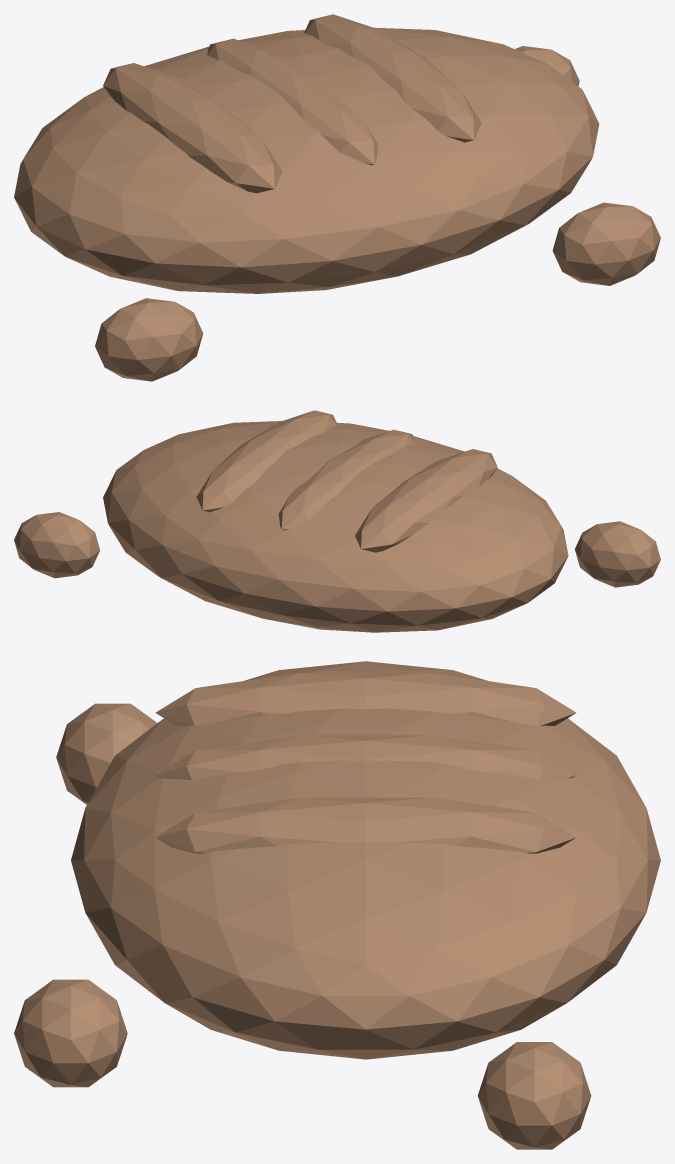
Rendered from RF-001.loose-clay.glb.
The picture shows the model from 3 angles, top to bottom: view 1: azimuth 30°, elevation 25°; view 2: azimuth 150°, elevation 25°; view 3: azimuth 270°, elevation 25°; orthographic projection. The views are drawn at different scales.
Visible parts, largest first — view 1: RF-001.loose-clay RF-001.loose-clay batched; view 2: RF-001.loose-clay RF-001.loose-clay batched; view 3: RF-001.loose-clay RF-001.loose-clay batched.
Boxes of the visible parts, x1=… form: RF-001.loose-clay RF-001.loose-clay batched: x1=14, y1=14, x2=660, y2=381; RF-001.loose-clay RF-001.loose-clay batched: x1=14, y1=410, x2=660, y2=632; RF-001.loose-clay RF-001.loose-clay batched: x1=14, y1=661, x2=660, y2=1149.
Bounding box in the file's own units: 0.4466 × 0.113 × 0.307.
